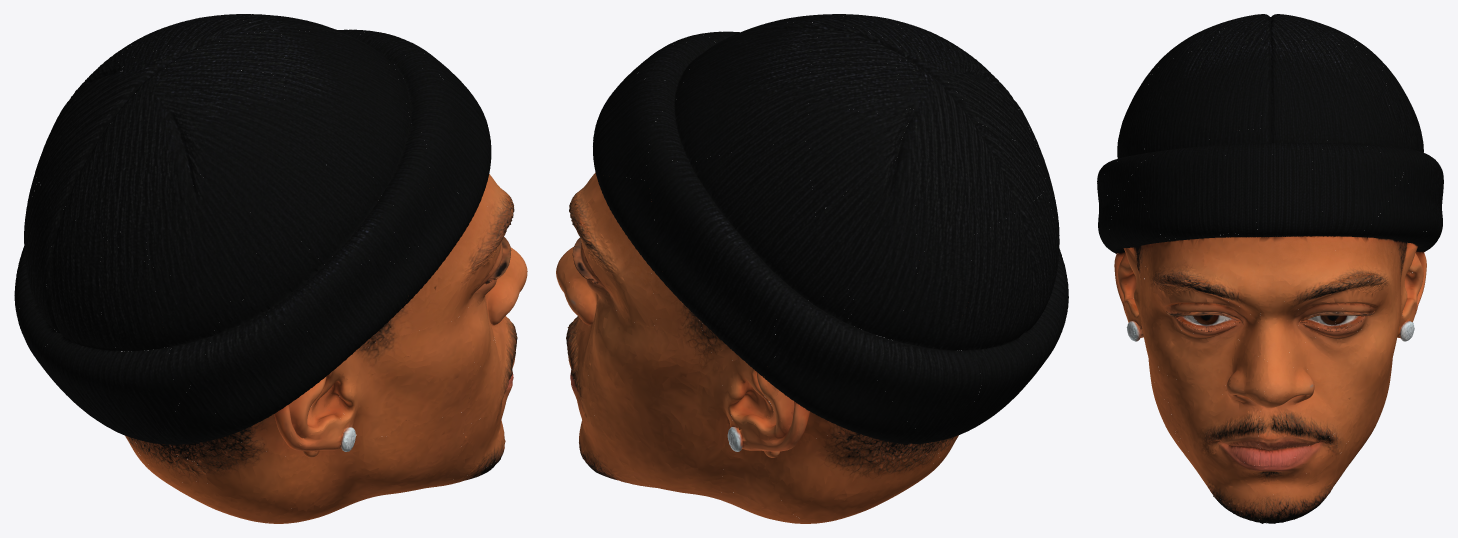
File: head-interactive.glb
The picture shows the model from 3 angles, left to right: view 1: azimuth 30°, elevation 25°; view 2: azimuth 150°, elevation 25°; view 3: azimuth 270°, elevation 25°; orthographic projection. The views are drawn at different scales.
Visible parts, largest first — view 1: F_UV_Textured_Proxy; view 2: F_UV_Textured_Proxy; view 3: F_UV_Textured_Proxy.
Boxes of the visible parts, left/top/right/bottom form: F_UV_Textured_Proxy: left=14, top=14, right=527, bottom=523; F_UV_Textured_Proxy: left=556, top=14, right=1068, bottom=523; F_UV_Textured_Proxy: left=1097, top=14, right=1443, bottom=523.
Bounding box in the file's own units: 0.9794 × 0.9563 × 0.7543.
Materials: 1 (1 with a texture image).
